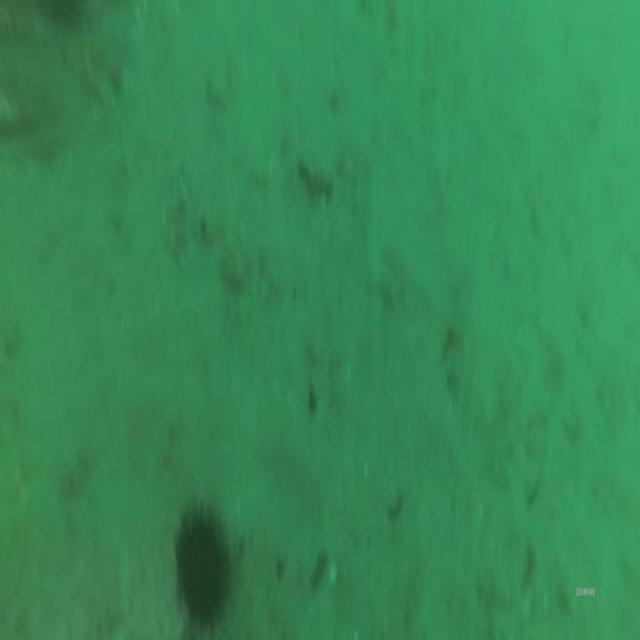echinus: (169, 501, 233, 630)
